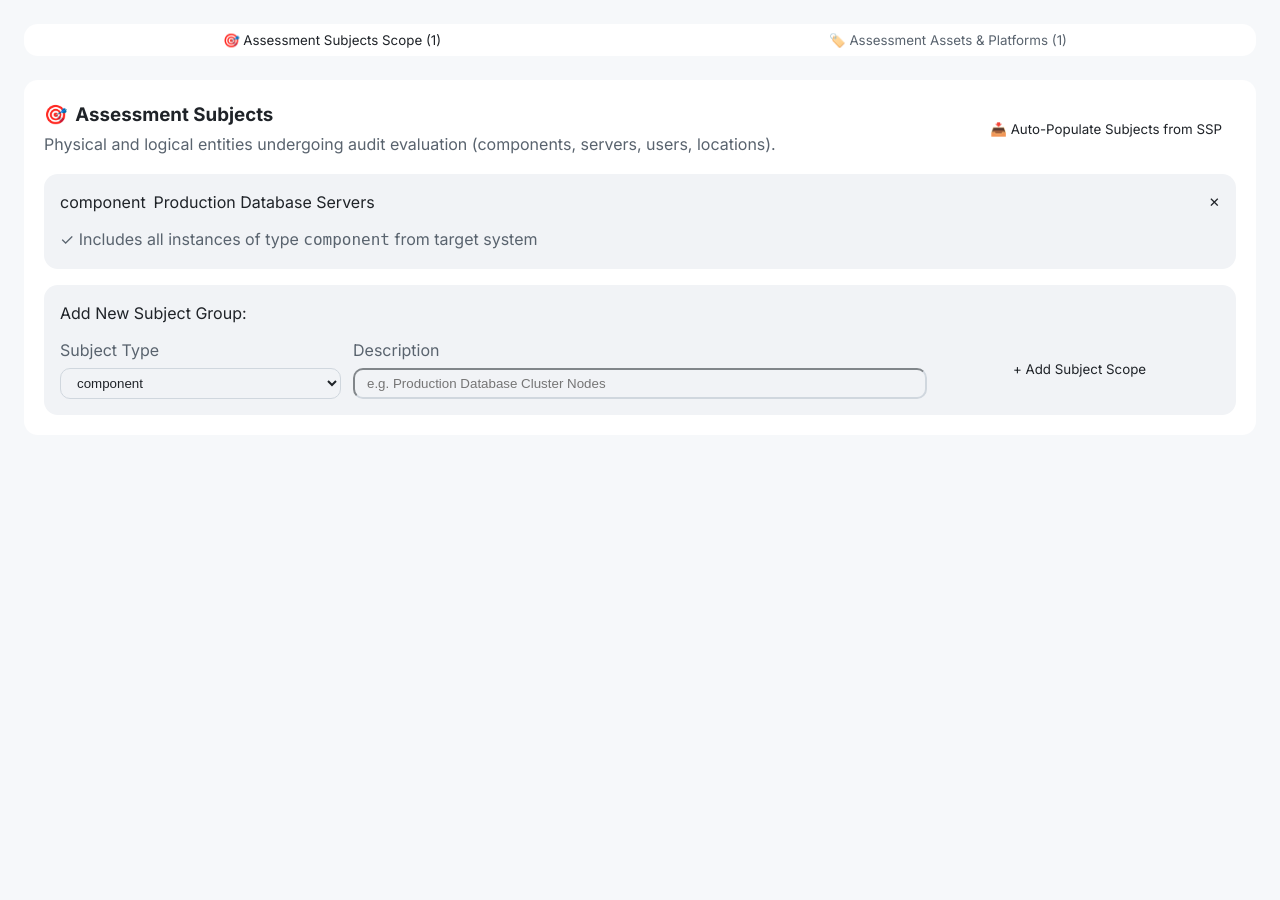
Test: AssessmentSubjectsAssetsTab › renders subjects list and switches to assets & platforms view
Check: the text "Production Database Servers" is shown, box [154,190,375,215]
Check: the text "Includes all instances of type" is shown, box [60,229,303,249]
# Switch to Assets view
Click the button "🏷️ Assessment Assets & Platforms (1)". click: {"x": 948, "y": 40}
box: [640,24,1256,56]
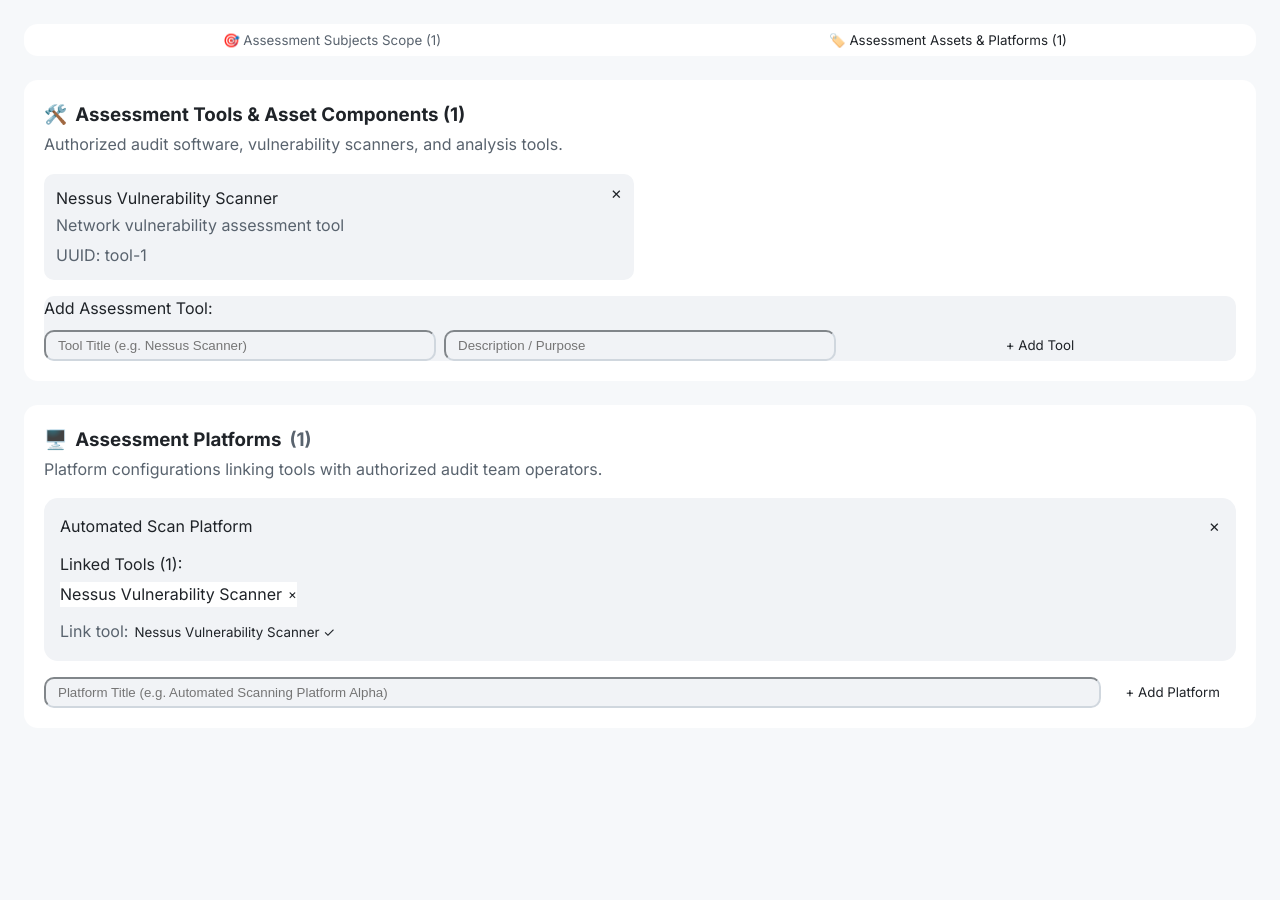
Check: the text "Automated Scan Platform" is shown, box [60,514,253,540]
